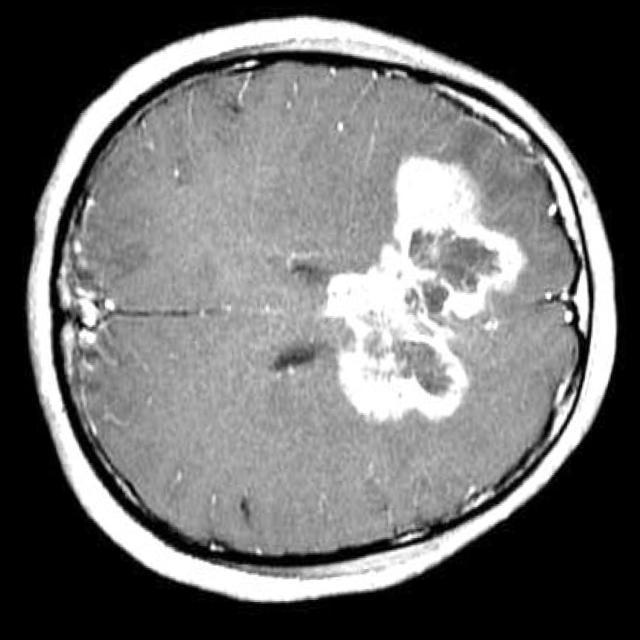Tumor: (324, 162, 528, 423)
